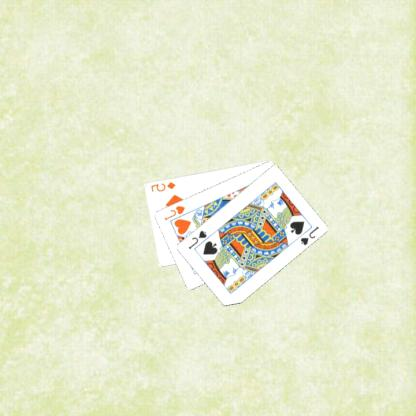5D: (150, 179, 178, 193)
JH: (163, 203, 188, 222)
JS: (187, 228, 210, 250), (299, 224, 322, 246)
